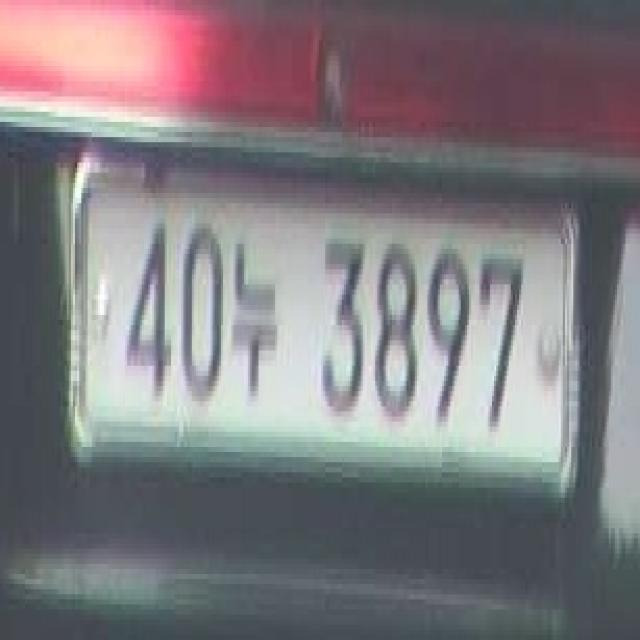0: (181, 214, 223, 406)
3: (319, 234, 365, 412)
4: (121, 224, 175, 402)
7: (478, 249, 524, 432)
8: (371, 238, 419, 422)
9: (425, 244, 471, 432)
license_plate: (71, 152, 577, 488)
nu: (230, 224, 280, 391)
